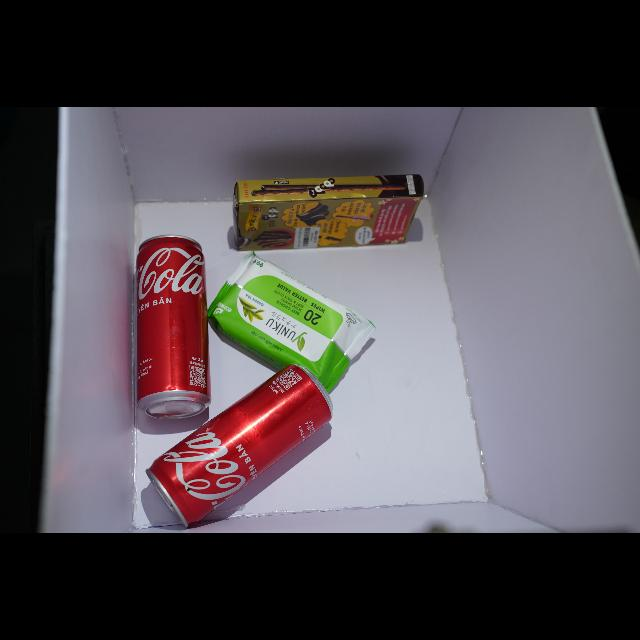banh_toppo_socola: (233, 174, 424, 250)
coca_cola: (146, 365, 332, 527), (136, 235, 210, 421)
khan_giay: (210, 254, 375, 391)
